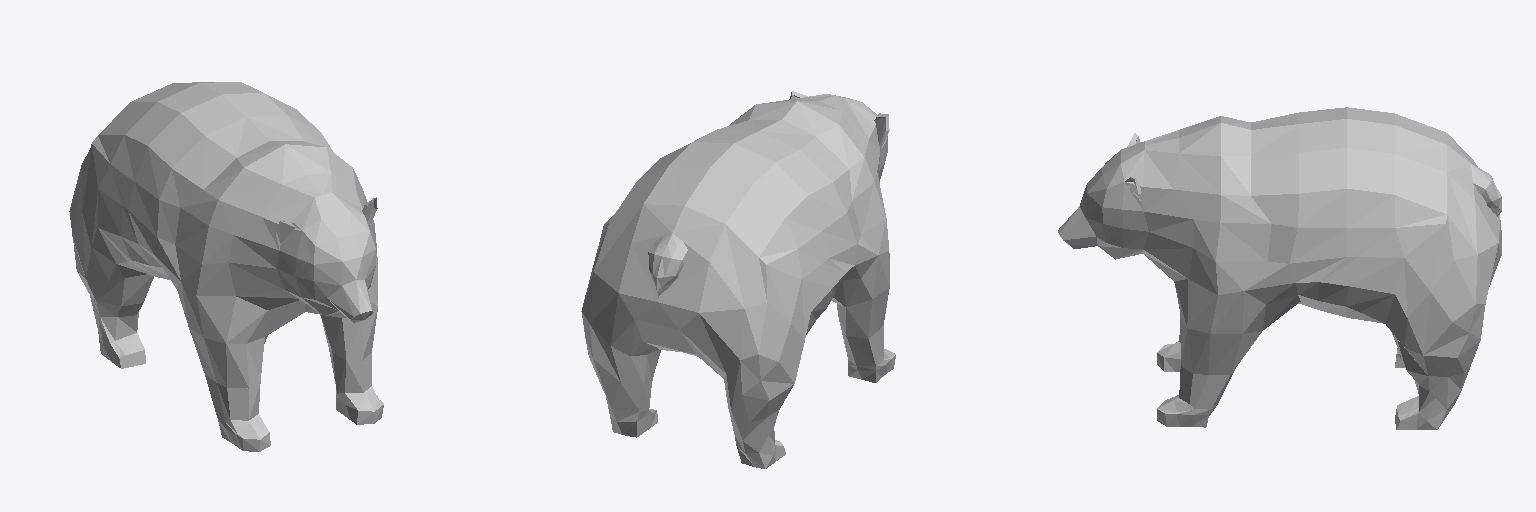
File: bear.obj
The picture shows the model from 3 angles: view 1: azimuth 30°, elevation 25°; view 2: azimuth 150°, elevation 25°; view 3: azimuth 270°, elevation 25°; orthographic projection.
Visible parts, largest first — view 1: Cube; view 2: Cube; view 3: Cube.
Boxes of the visible parts, <box> form: Cube: <box>69,82,383,451</box>; Cube: <box>581,91,895,468</box>; Cube: <box>1058,107,1501,429</box>.
Bounding box in the file's own units: 2.43 × 3.16 × 4.63.